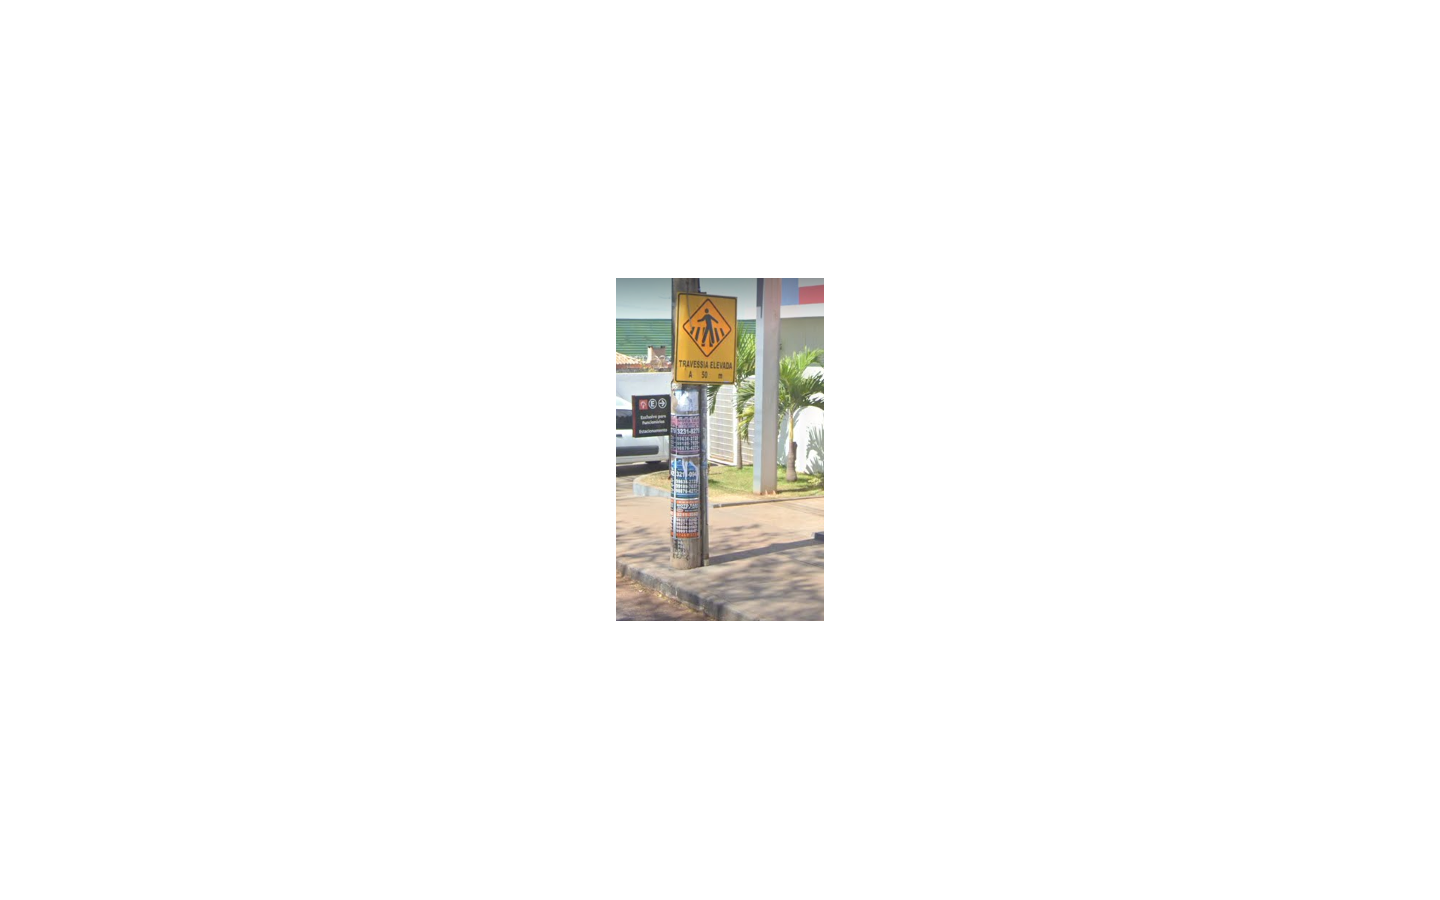t50m: (673, 292, 738, 385)
